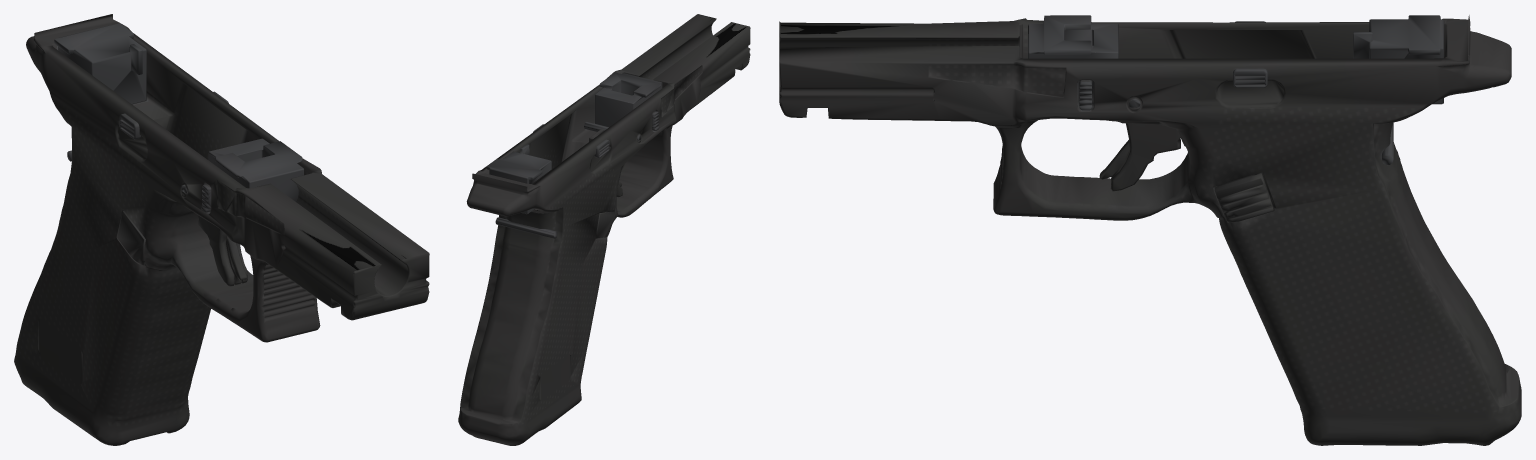
The model's file is SM_G17_Frame_LOD1.fbx.
The picture shows the model from 3 angles, left to right: view 1: azimuth 30°, elevation 25°; view 2: azimuth 150°, elevation 25°; view 3: azimuth 270°, elevation 25°; orthographic projection. The views are drawn at different scales.
Visible parts, largest first — view 1: SM_G17_Frame_LOD1; view 2: SM_G17_Frame_LOD1; view 3: SM_G17_Frame_LOD1.
Part boxes in pixels (x1,y1,x2,y2): SM_G17_Frame_LOD1: (14,14,429,445); SM_G17_Frame_LOD1: (458,14,750,445); SM_G17_Frame_LOD1: (779,15,1521,445).
Size of the model in its own units: 3.18 by 18.72 by 11.29.
